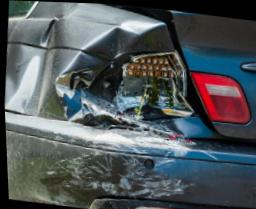Bumper: (51, 122, 222, 209)
Fender: (0, 14, 98, 125)
Light: (95, 44, 191, 132)
